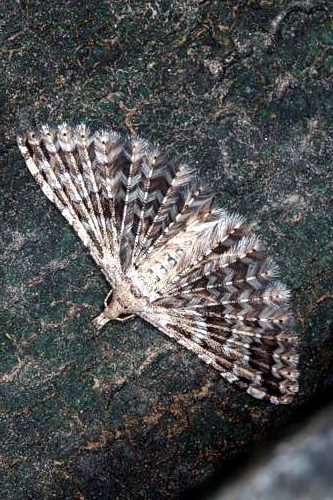Alucitidae: (14, 122, 306, 409)
moth: (12, 120, 304, 407)
